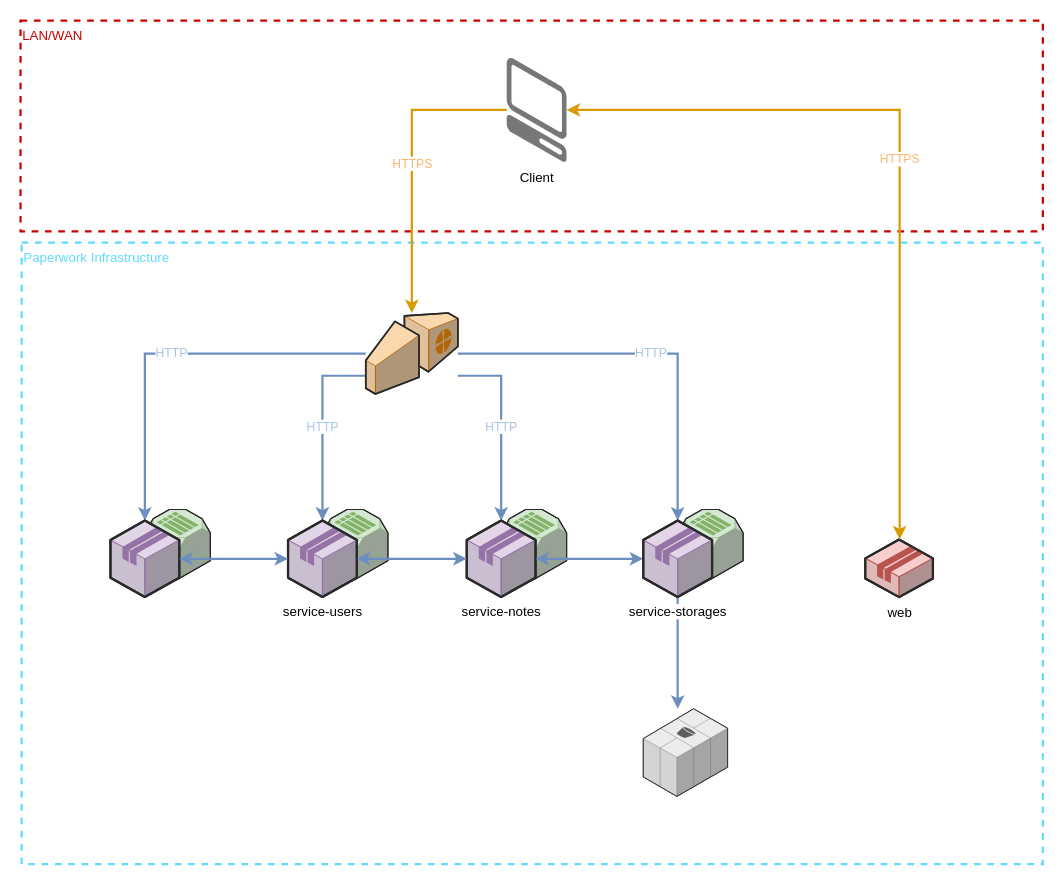
Image size: 1062x884. Some labels were removed from this diagram. Each missing label, with the centre of its shape:
"minio" belongs at (685,752).
"service-configs" belongs at (144,558).
"service-gatekeeper" belongs at (411,353).
